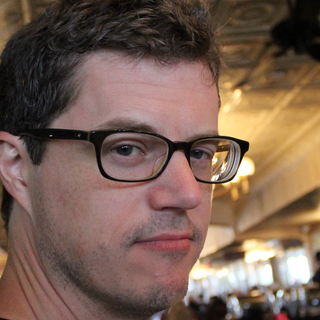eye: (108, 140, 151, 163), (188, 145, 219, 165)
